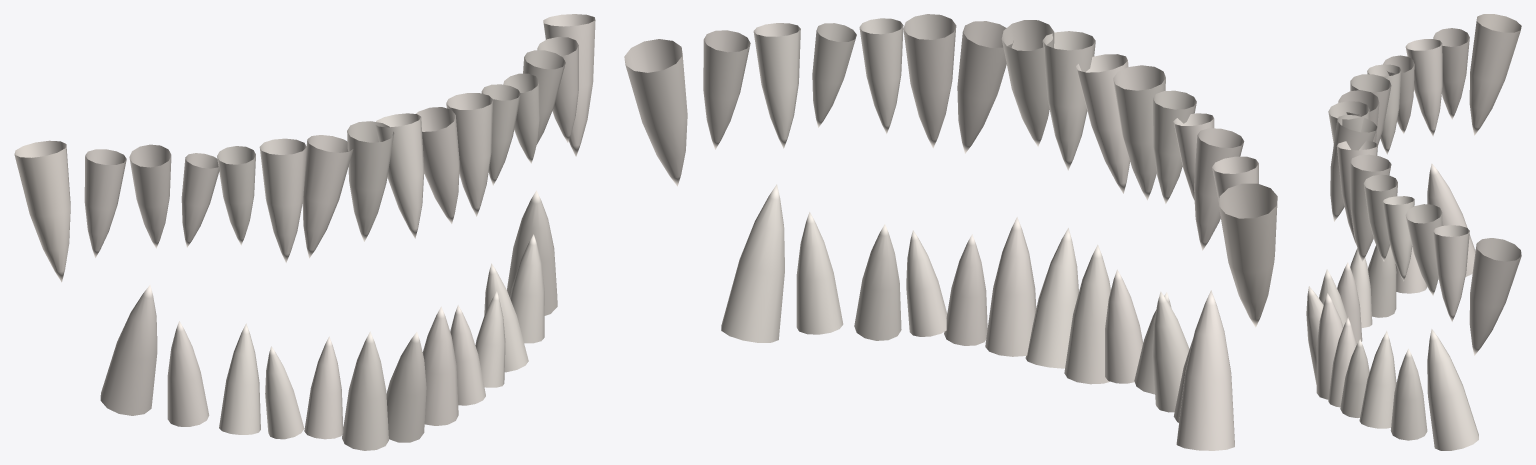
File: teeth.fbx
3 renders of one model, left to right at view 1: azimuth 30°, elevation 25°; view 2: azimuth 150°, elevation 25°; view 3: azimuth 270°, elevation 25°, orthographic. The views are drawn at different scales.
Parts seen in each view (by area): view 1: polySurface333; view 2: polySurface333; view 3: polySurface333.
Part boxes in pixels (bbox=[...]): polySurface333: bbox=[14, 14, 595, 450]; polySurface333: bbox=[624, 14, 1277, 450]; polySurface333: bbox=[1306, 14, 1521, 450].
Bounding box in the file's own units: 1.35 × 0.6898 × 0.4995.
